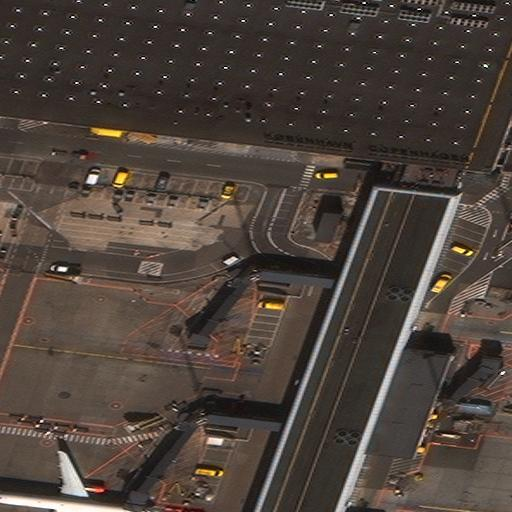Medium Civil Transport: (0, 450, 159, 512)
